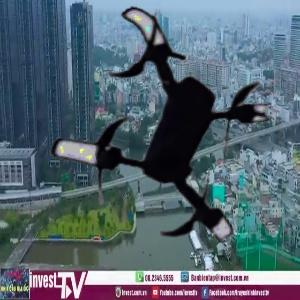drone: (29, 2, 284, 257)
